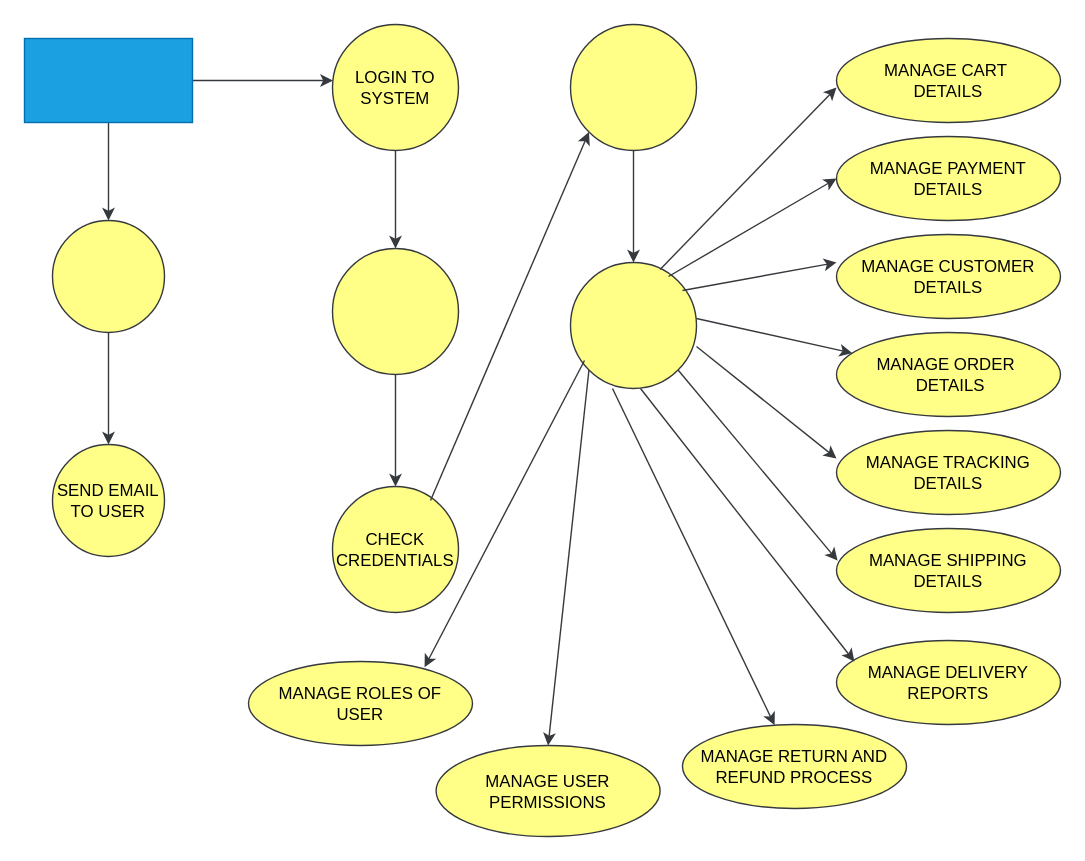
The diagram is 1085 pixels wide and 861 high, and some of its shapes have lost their labels. The centre of each missing label's shape, as x and y in pixels:
"ADMIN" goes at (107,79).
"CHECK ROLES OF ACCESS" goes at (632,86).
"FORGOT PASSWORD" goes at (107,275).
"MANAGE ELEMENTS" goes at (632,324).
"VERIFY INFORMATION" goes at (394,310).
